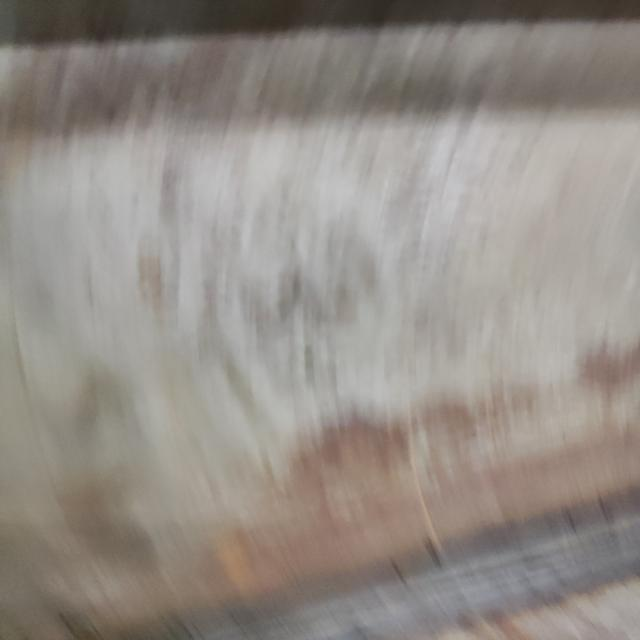seam: (21, 474, 640, 640)
